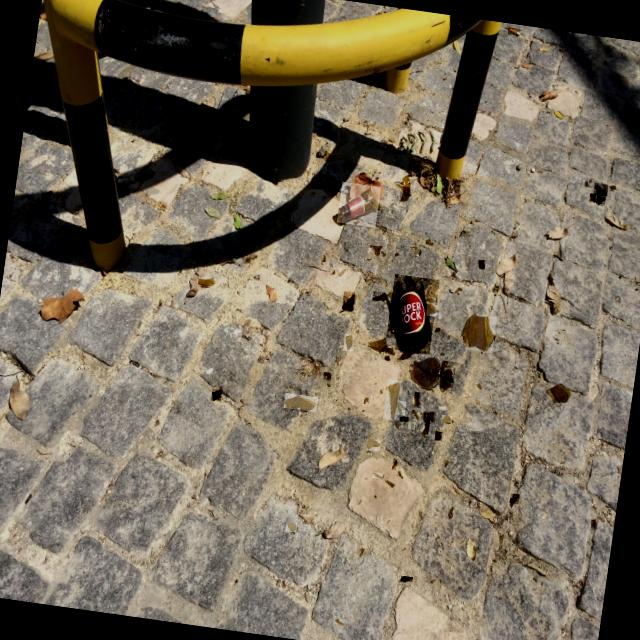Broken glass: (468, 314, 495, 352), (409, 358, 442, 389), (388, 382, 401, 420), (285, 395, 317, 410), (368, 338, 394, 355), (550, 383, 571, 403), (442, 362, 454, 390), (400, 175, 410, 201), (342, 294, 355, 310), (198, 278, 215, 287), (595, 184, 607, 196), (367, 440, 380, 450), (397, 401, 406, 415), (428, 304, 437, 317), (346, 335, 353, 351), (334, 618, 347, 626), (426, 413, 435, 424), (212, 391, 221, 401), (415, 392, 421, 407), (288, 523, 297, 533), (374, 294, 386, 301), (510, 495, 519, 504), (598, 196, 606, 206), (372, 472, 383, 479), (373, 246, 382, 254), (426, 418, 430, 435), (387, 480, 395, 488), (443, 416, 452, 423), (449, 506, 454, 518), (339, 271, 347, 278), (324, 373, 331, 381), (402, 577, 413, 582), (436, 432, 442, 441), (500, 535, 505, 545), (478, 261, 485, 268), (412, 410, 418, 418), (409, 422, 415, 430), (428, 298, 436, 304), (591, 194, 596, 202), (426, 239, 432, 245), (393, 461, 397, 470), (609, 186, 616, 191), (415, 250, 420, 256), (364, 397, 369, 403), (401, 418, 408, 422), (423, 412, 426, 420), (395, 421, 398, 429), (398, 471, 402, 477), (435, 328, 440, 332), (385, 356, 389, 360), (411, 247, 416, 250)
Cigarette: (509, 28, 520, 36)
Glass bottle: (394, 276, 432, 351), (338, 186, 379, 224)
